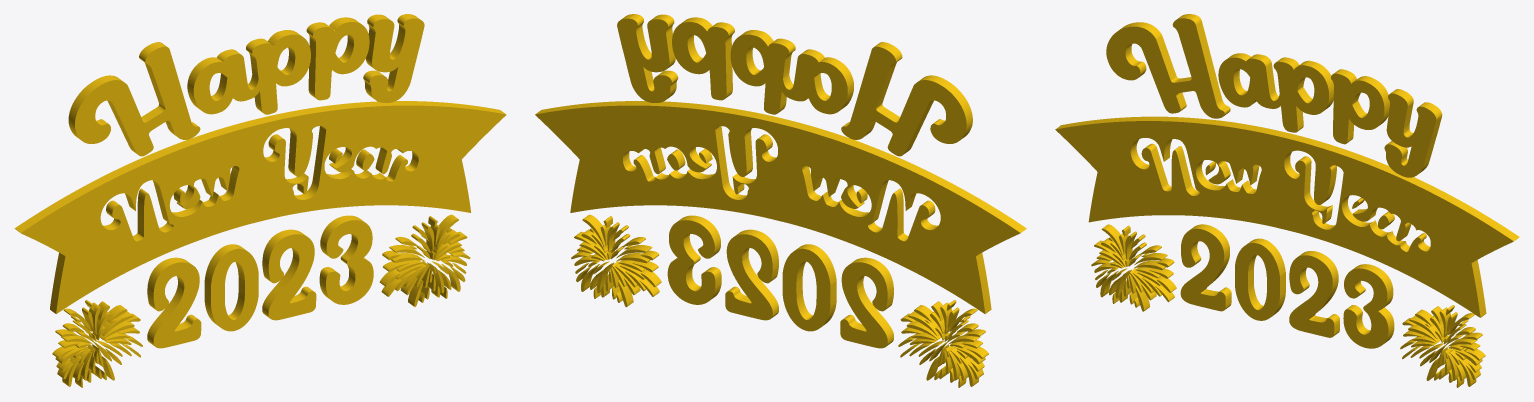
Rendered from HappyYer2023.glb.
The picture shows the model from 3 angles, left to right: view 1: azimuth 30°, elevation 25°; view 2: azimuth 150°, elevation 25°; view 3: azimuth 330°, elevation 25°; orthographic projection. The views are drawn at different scales.
Visible parts, largest first — view 1: path424; view 2: path424; view 3: path424.
Part boxes in pixels (bbox=[...]): path424: bbox=[14, 14, 506, 387]; path424: bbox=[535, 14, 1026, 387]; path424: bbox=[1055, 14, 1519, 387].
Bounding box in the file's own units: 2.67 × 1.69 × 0.0611.
